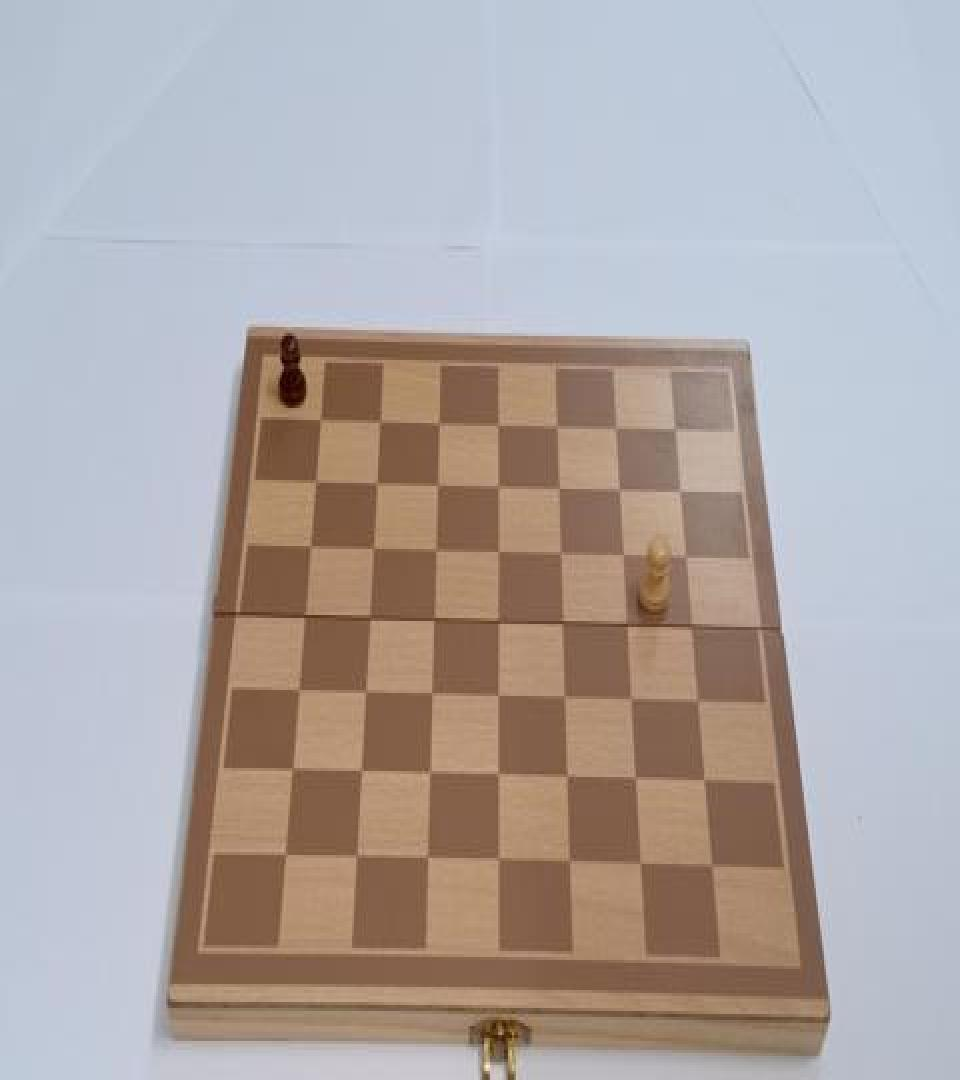xcorner: (368, 472, 386, 500), (430, 412, 448, 440), (672, 478, 690, 506), (313, 411, 331, 438), (307, 471, 325, 498), (296, 604, 314, 631), (275, 843, 293, 870), (371, 411, 389, 438), (364, 537, 382, 564), (360, 606, 378, 633), (356, 681, 374, 708), (351, 759, 369, 786), (346, 844, 364, 871), (428, 474, 446, 501), (426, 538, 444, 565), (422, 683, 440, 710), (420, 762, 438, 789), (489, 414, 507, 441), (489, 540, 507, 567), (489, 609, 507, 636), (489, 684, 507, 711), (490, 849, 508, 876), (548, 415, 566, 442), (550, 477, 568, 504), (554, 610, 572, 637), (559, 765, 577, 792), (562, 851, 580, 878), (607, 415, 625, 442), (611, 477, 629, 504), (615, 543, 633, 570), (624, 687, 642, 714), (628, 768, 646, 795), (666, 417, 684, 444), (678, 545, 696, 572), (684, 615, 702, 642), (691, 689, 709, 716), (706, 855, 724, 882), (302, 536, 320, 562), (289, 680, 307, 706), (282, 758, 300, 784), (424, 608, 442, 634), (418, 848, 436, 874), (489, 476, 507, 502), (489, 764, 507, 790), (552, 542, 570, 568), (556, 686, 574, 712), (619, 614, 637, 640), (634, 854, 652, 880), (698, 770, 716, 796)
